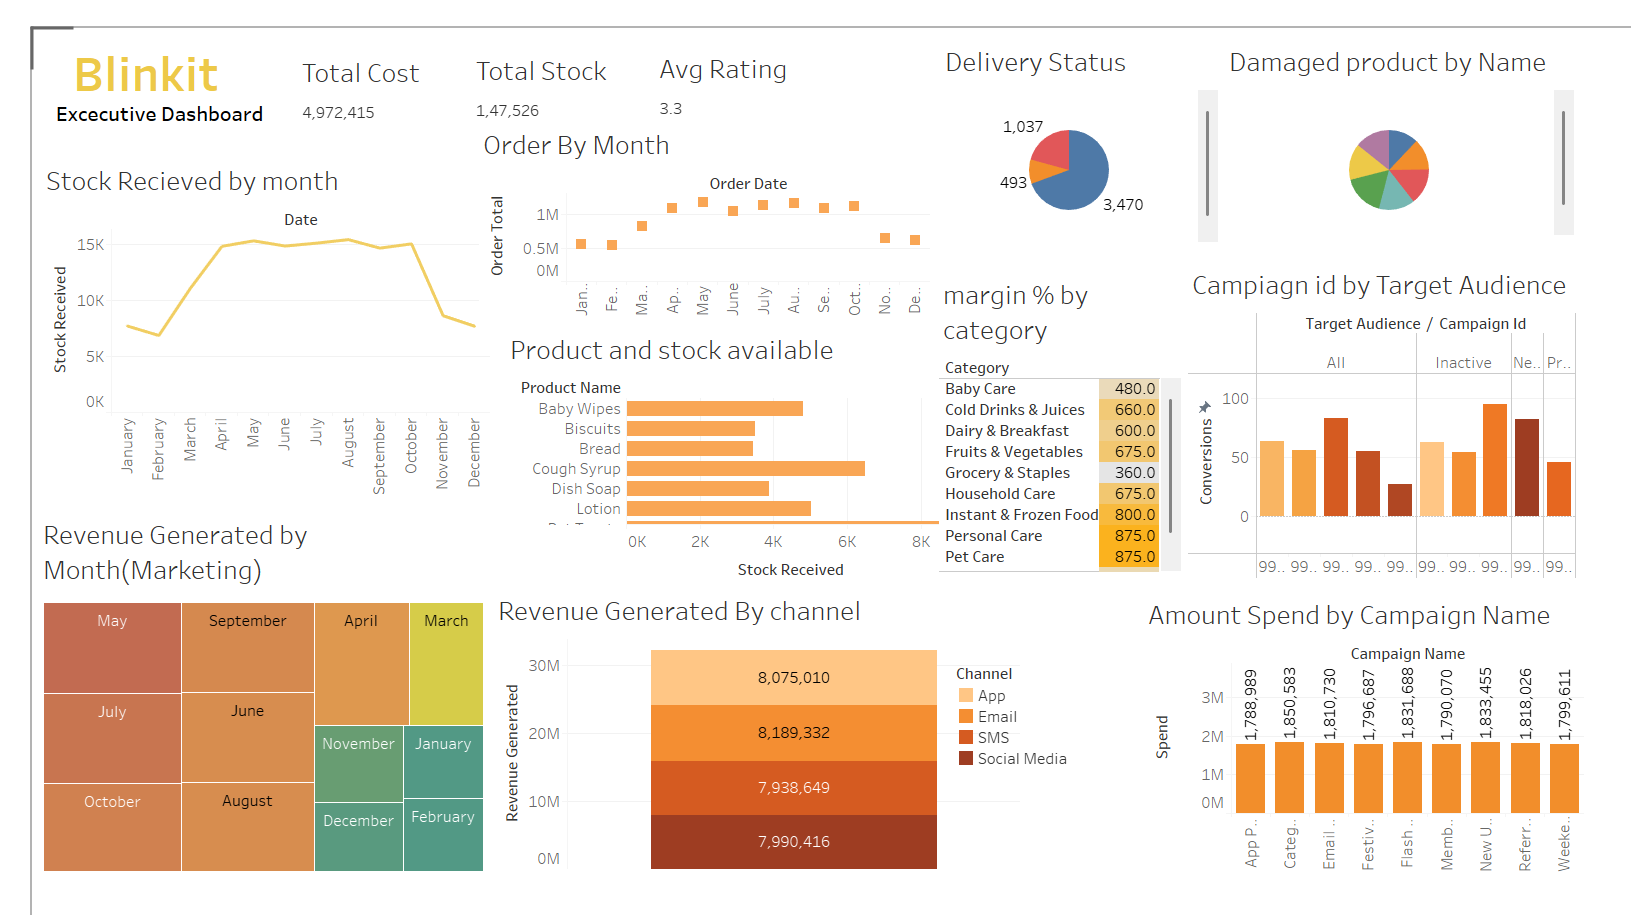

The page's visual inventory and layout, read from the dashboard file:
{"tool":"tableau","page":{"name":"Blinkit - Dashboard","canvas":[1000,1000],"units":"permille","ordinal":0},"visuals":[{"type":"image","param":"Image/blinkit.jpg","box":[10.1,11.6,179.1,147.7]},{"type":"worksheet","title":"Delivery Status","mark":"Pie","box":[576,15.1,175.3,234.9]},{"type":"worksheet","title":"Damaged product by Name","mark":"Pie","box":[755.7,15.1,220.9,226.7]},{"type":"worksheet","title":"Avg Rating","mark":"Text","box":[394.9,23.3,147.5,87.2]},{"type":"worksheet","title":"Total Stock","mark":"Text","box":[279.1,25.6,136.7,97.7]},{"type":"worksheet","title":"Total Cost","mark":"Text","box":[169,27.9,127.2,86]},{"type":"worksheet","title":"Order By Month","mark":"Square","rows":["order_total"],"cols":["order_date"],"box":[283.5,111.6,285.4,225.6]},{"type":"worksheet","title":"Stock Recieved by month","mark":"Automatic","rows":["stock_received"],"cols":["date"],"box":[7,153.5,283.5,410.5]},{"type":"worksheet","title":"Campiagn id by Target Audience","mark":"Automatic","rows":["conversions"],"cols":["target_audience","campaign_id"],"box":[732.3,274.4,245.6,367.4]},{"type":"worksheet","title":"margin % by category","mark":"Square","rows":["category"],"box":[574.7,286.1,153.2,388.4]},{"type":"worksheet","title":"Product and stock available","mark":"Automatic","rows":["product_name"],"cols":["stock_received"],"box":[300.6,350,298.1,301.2]},{"type":"worksheet","title":"Revenue Generated by Month(Marketing)","mark":"Automatic","box":[5.1,565.1,301.9,422.1]},{"type":"worksheet","title":"Revenue Generated By channel","mark":"Automatic","rows":["revenue_generated"],"box":[293,653.5,332.9,325.6]},{"type":"worksheet","title":"Amount Spend by Campaign Name","mark":"Automatic","rows":["spend"],"cols":["campaign_name"],"box":[704.4,658.1,278.5,325.6]},{"type":"legend","title":"Revenue Generated By channel","param":"[federated.0qyg0bu0kbj1so1a1flou0b3t9vk].[none:channel:nk]","box":[585.4,739.5,76.6,154.7]}]}

Visuals, with their boxes on the dashboard's canvas, which has no fixed pixel size, in thousandths of its width and height (x1, y1, x2, y2). These are canvas units, not pixel positions in the 1631x915 screenshot, which may show the page scaled, cropped or inside an application window:
image: rect(10, 12, 189, 159)
"Delivery Status" worksheet (Pie marks): rect(576, 15, 751, 250)
"Damaged product by Name" worksheet (Pie marks): rect(756, 15, 977, 242)
"Avg Rating" worksheet (Text marks): rect(395, 23, 542, 110)
"Total Stock" worksheet (Text marks): rect(279, 26, 416, 123)
"Total Cost" worksheet (Text marks): rect(169, 28, 296, 114)
"Order By Month" worksheet (Square marks): rect(284, 112, 569, 337)
"Stock Recieved by month" worksheet: rect(7, 154, 290, 564)
"Campiagn id by Target Audience" worksheet: rect(732, 274, 978, 642)
"margin % by category" worksheet (Square marks): rect(575, 286, 728, 674)
"Product and stock available" worksheet: rect(301, 350, 599, 651)
"Revenue Generated by Month(Marketing)" worksheet: rect(5, 565, 307, 987)
"Revenue Generated By channel" worksheet: rect(293, 654, 626, 979)
"Amount Spend by Campaign Name" worksheet: rect(704, 658, 983, 984)
"Revenue Generated By channel" legend: rect(585, 740, 662, 894)
